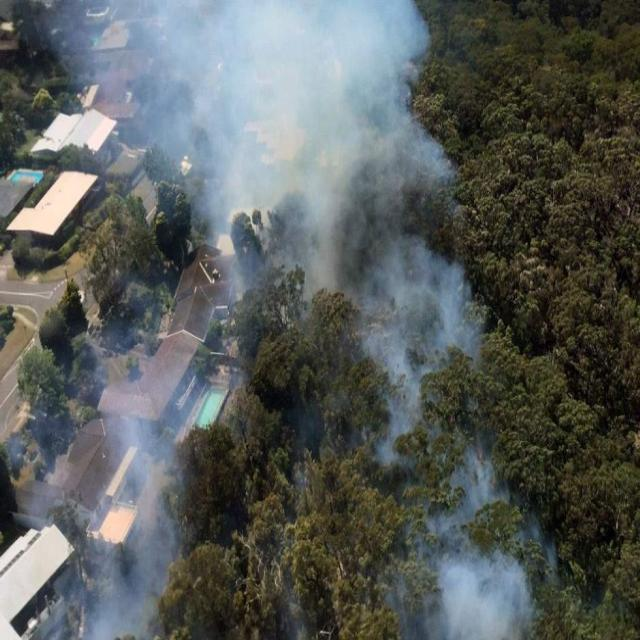Smoke: (310, 208, 538, 509), (160, 22, 416, 252), (69, 362, 227, 613), (396, 543, 533, 640)
